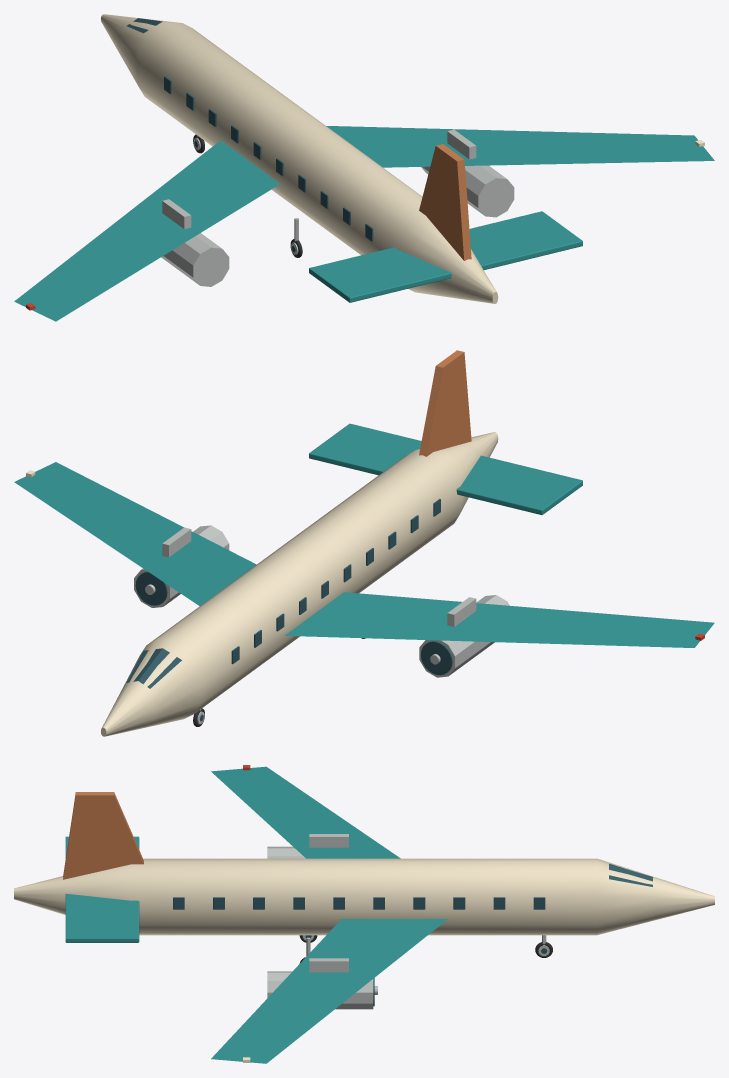
File: plane_detail.glb
3 views of the same model, one above another, from view 1: azimuth 30°, elevation 25°; view 2: azimuth 150°, elevation 25°; view 3: azimuth 270°, elevation 25° (orthographic). The views are drawn at different scales.
Visible parts, largest first — view 1: PlaneModel traffic_teal, Airliner fuselage, PlaneModel traffic_metal, Swept vertical stabilizer, PlaneModel traffic_glass; view 2: PlaneModel traffic_teal, Airliner fuselage, Swept vertical stabilizer, PlaneModel traffic_glass, PlaneModel traffic_metal; view 3: Airliner fuselage, PlaneModel traffic_teal, Swept vertical stabilizer, PlaneModel traffic_metal, PlaneModel traffic_glass.
Boxes of the visible parts, left/top/right/bottom form: PlaneModel traffic_teal: left=14, top=126, right=714, bottom=321; Airliner fuselage: left=101, top=14, right=498, bottom=303; PlaneModel traffic_metal: left=161, top=129, right=514, bottom=286; Swept vertical stabilizer: left=419, top=144, right=471, bottom=260; PlaneModel traffic_glass: left=127, top=18, right=373, bottom=241; PlaneModel traffic_teal: left=14, top=423, right=714, bottom=647; Airliner fuselage: left=101, top=432, right=498, bottom=736; Swept vertical stabilizer: left=419, top=350, right=471, bottom=456; PlaneModel traffic_glass: left=126, top=499, right=452, bottom=688; PlaneModel traffic_metal: left=134, top=525, right=509, bottom=712; Airliner fuselage: left=14, top=858, right=714, bottom=935; PlaneModel traffic_teal: left=65, top=766, right=447, bottom=1063; Swept vertical stabilizer: left=63, top=792, right=143, bottom=879; PlaneModel traffic_metal: left=267, top=834, right=546, bottom=1009; PlaneModel traffic_glass: left=173, top=863, right=652, bottom=1006.
Size of the model in its own units: 11.94 by 3.08 by 11.9.
